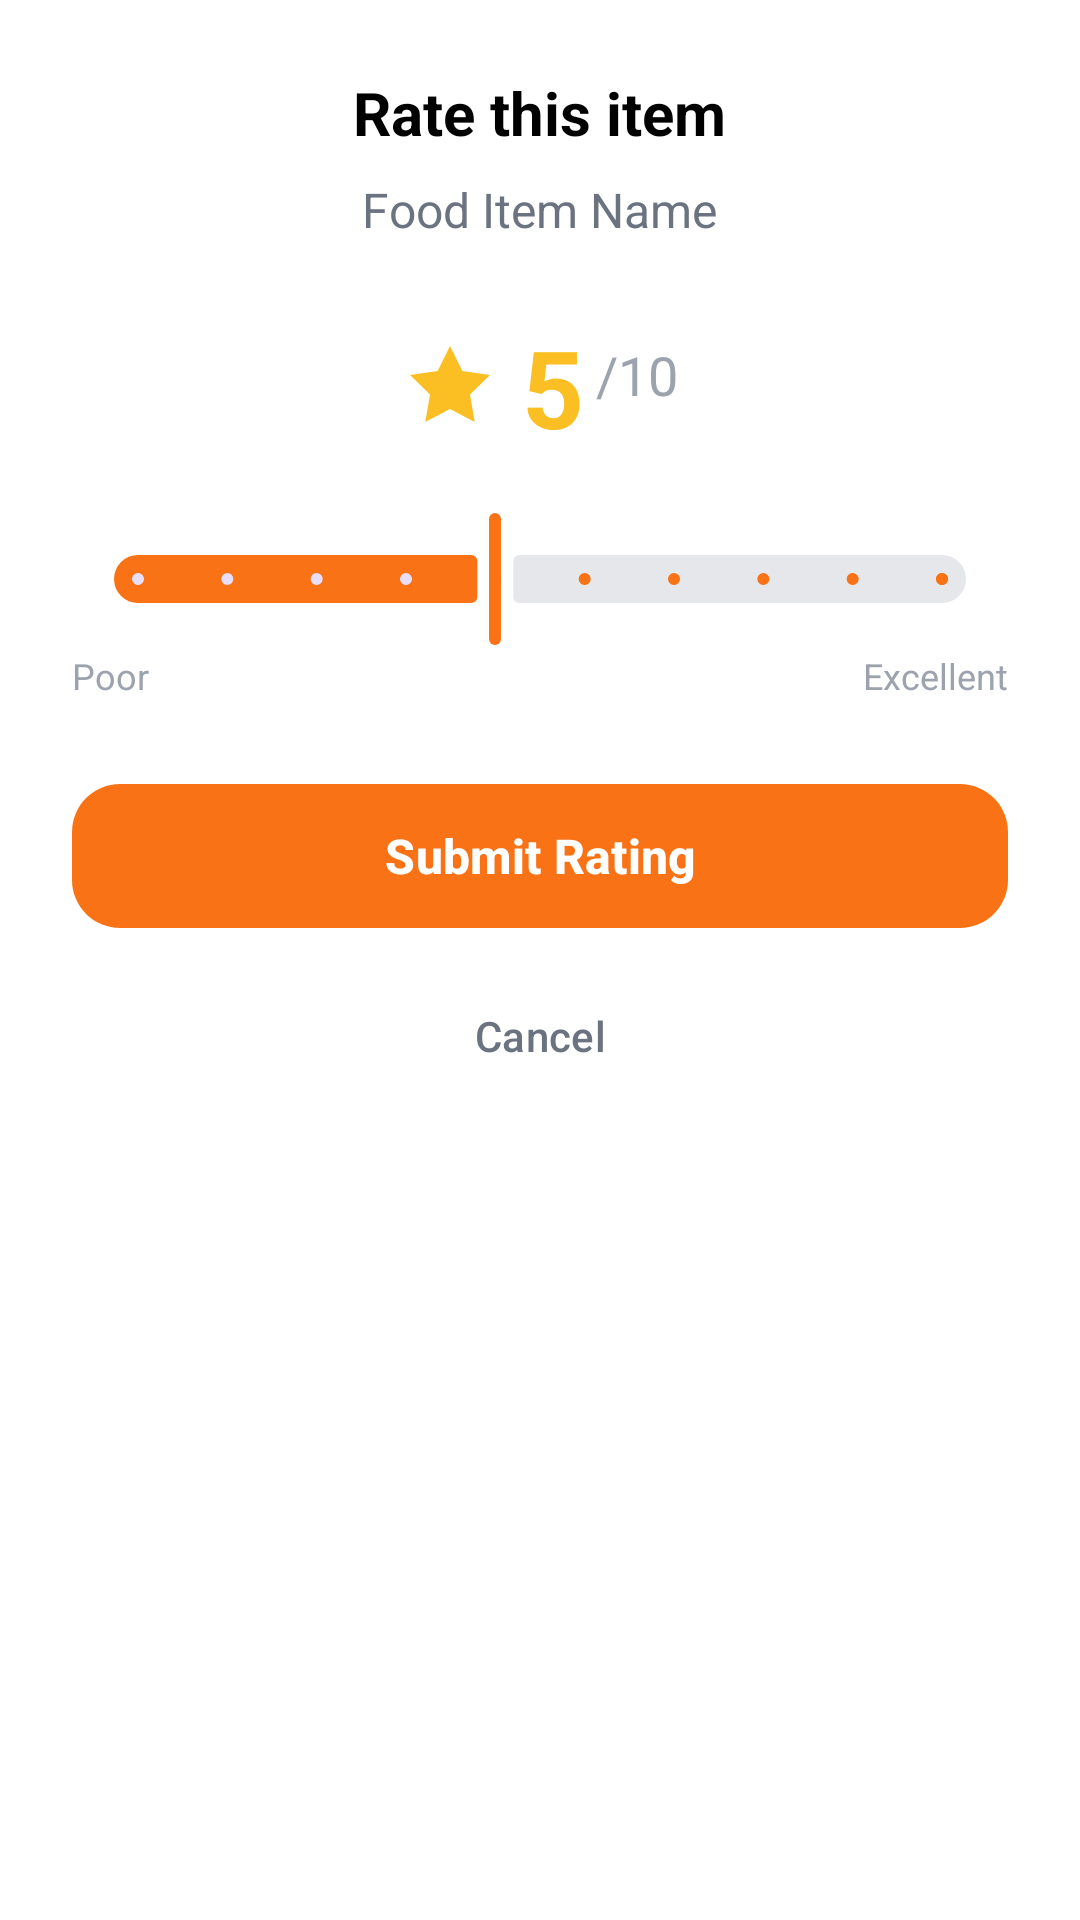

Named icons in this screenshot (1080*1920) and their bounding boxes, (x1, y1, x2, y2):
Star: (410, 346, 490, 422)
